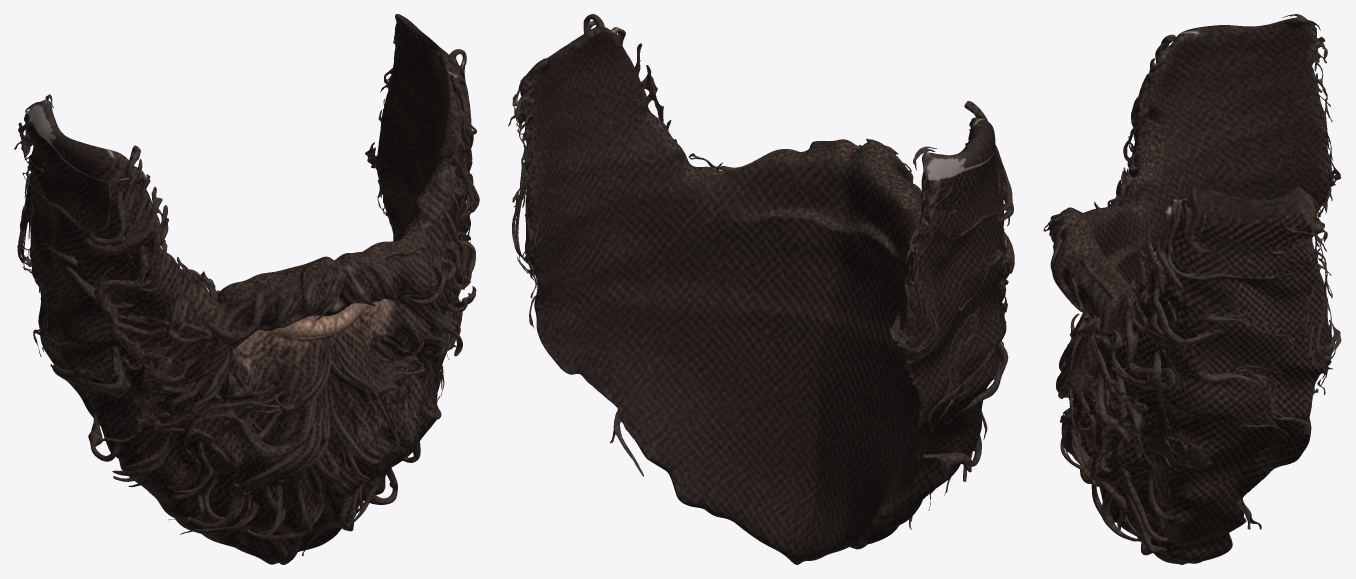
File: Barba_Cacheada.glb
3 views of the same model, side by side, from view 1: azimuth 30°, elevation 25°; view 2: azimuth 150°, elevation 25°; view 3: azimuth 270°, elevation 25° (orthographic). The views are drawn at different scales.
Size of the model in its own units: 1.75 by 1.89 by 1.09.
Materials: 1 (1 with a texture image).
